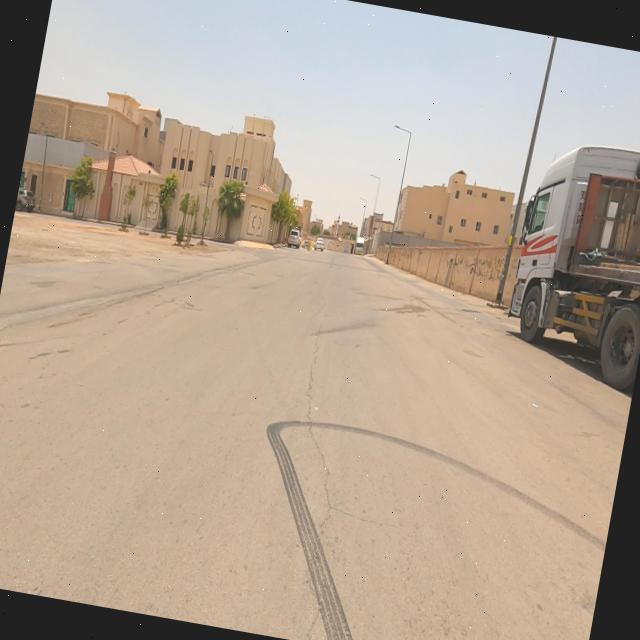Graffiti: (467, 250, 505, 282), (452, 256, 463, 274)
